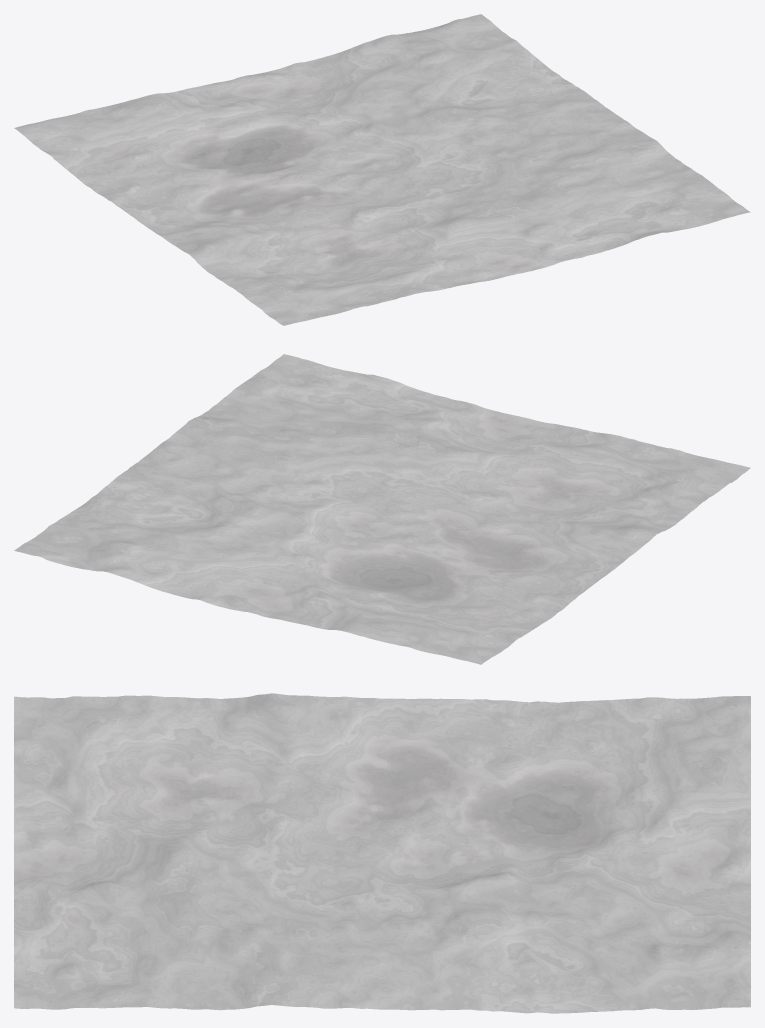
The model's file is rock2.fbx.
The picture shows the model from 3 angles, top to bottom: view 1: azimuth 30°, elevation 25°; view 2: azimuth 150°, elevation 25°; view 3: azimuth 270°, elevation 25°; orthographic projection. The views are drawn at different scales.
Visible parts, largest first — view 1: rock2; view 2: rock2; view 3: rock2.
Boxes of the visible parts, left/top/right/bottom form: rock2: left=14, top=14, right=750, bottom=325; rock2: left=14, top=354, right=750, bottom=664; rock2: left=14, top=693, right=750, bottom=1013.
Bounding box in the file's own units: 10000 × 257 × 10000.
Materials: 1 (1 with a texture image).
